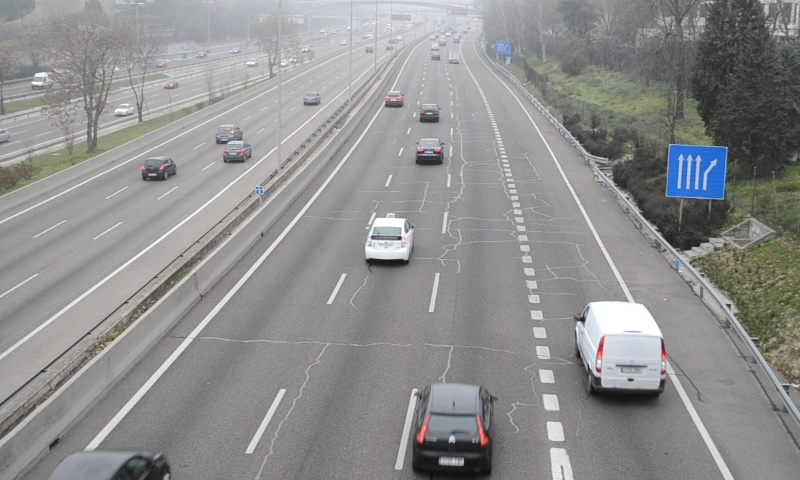car: (413, 382, 494, 476), (366, 216, 412, 260), (415, 138, 444, 163), (418, 101, 440, 122), (384, 89, 404, 107)
van: (574, 301, 667, 398)
